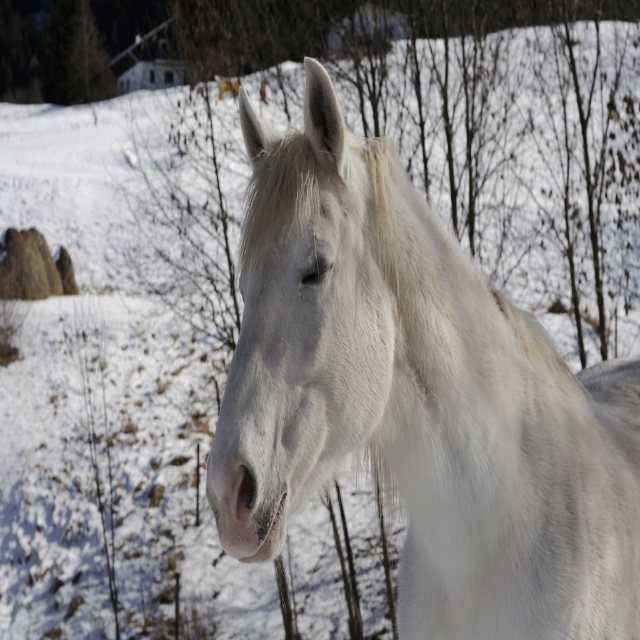Horse: (208, 54, 640, 639)
